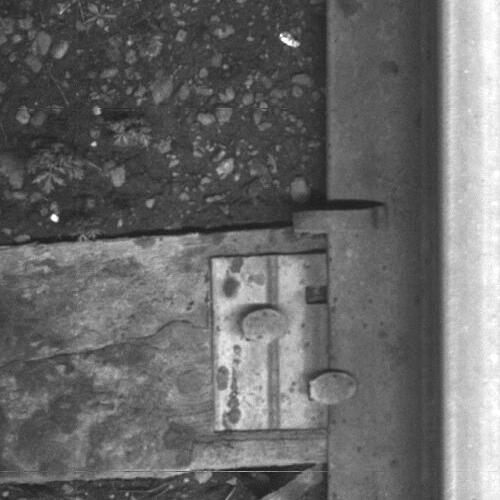crutch: (295, 202, 390, 234)
do: (209, 252, 360, 430)
rail: (438, 1, 500, 500)
tie_wood: (1, 231, 326, 468)
